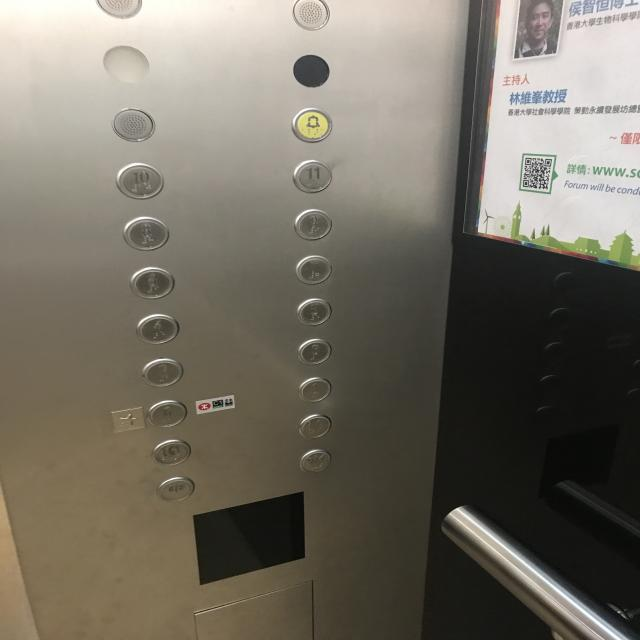1: (297, 377, 332, 403)
10: (114, 162, 164, 200)
11: (290, 158, 334, 194)
2: (139, 358, 184, 388)
3: (296, 338, 332, 365)
4: (134, 313, 179, 345)
5: (294, 298, 332, 328)
6: (128, 266, 174, 299)
7: (294, 254, 333, 285)
8: (120, 214, 170, 252)
9: (292, 208, 334, 240)
G: (146, 399, 188, 427)
LG: (297, 414, 332, 438)
alarm: (289, 106, 333, 144)
blur: (150, 438, 192, 466)
close: (298, 448, 332, 474)
empty: (100, 44, 152, 84), (290, 52, 332, 88)
led: (188, 489, 308, 587)
open: (155, 476, 195, 503)
s: (108, 405, 147, 433)
speaker: (110, 106, 157, 142), (289, 0, 332, 34)
